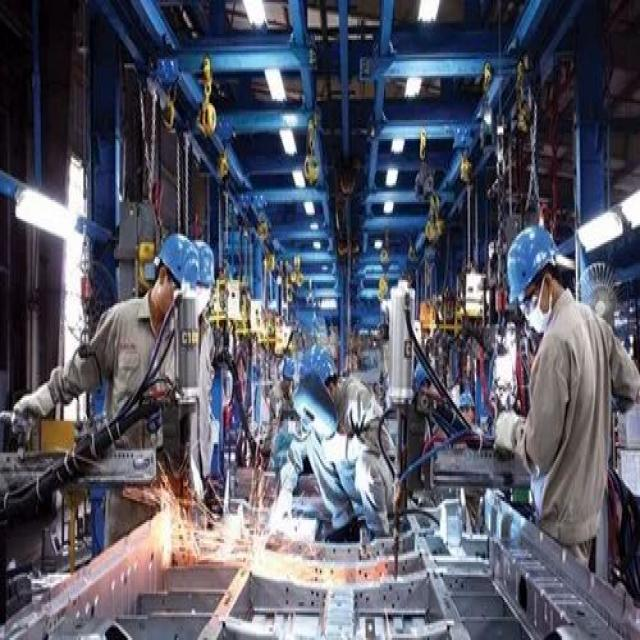Safety-Helmet: (503, 215, 566, 307), (160, 222, 205, 298), (189, 225, 219, 278), (311, 350, 341, 388)
